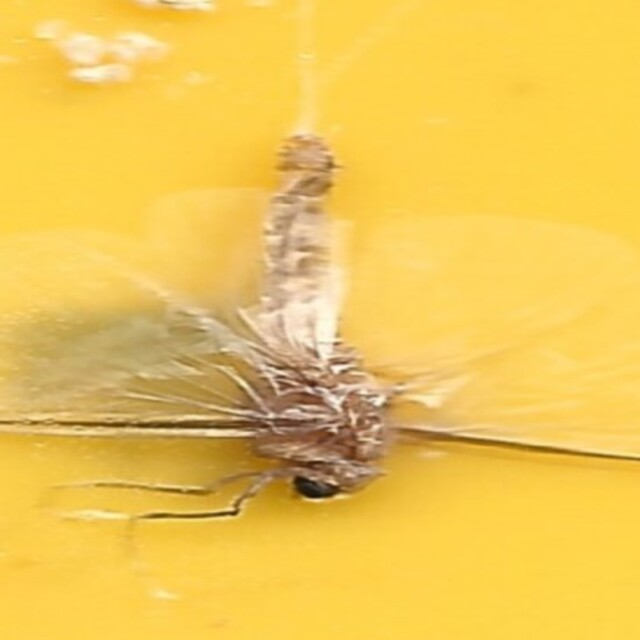Ephemeroptera: (233, 132, 407, 508)
